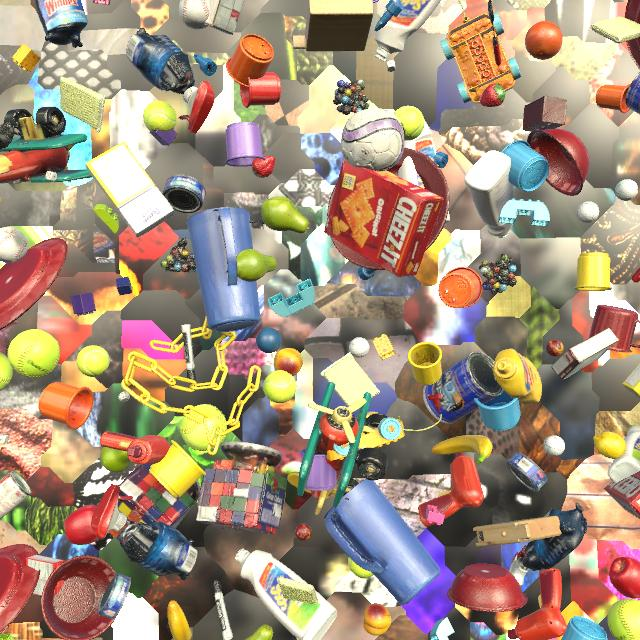ycb_002_master_chef_can: (423, 351, 504, 424), (625, 72, 640, 114)
ycb_003_cracker_box: (324, 159, 444, 277), (604, 471, 640, 519)
ycb_004_sugar_box: (85, 142, 174, 237), (622, 363, 640, 400)
ycb_005_tomato_soup_can: (0, 471, 32, 519)
ycb_006_mustard_bottle: (493, 349, 542, 405)
ycb_007_tuna_fish_can: (506, 451, 548, 492), (163, 174, 206, 213), (97, 573, 131, 619)
ycb_008_pudding_box: (551, 328, 619, 379), (204, 0, 244, 35)
ycb_009_gelatin_box: (26, 555, 64, 596)
ycb_011_banana: (432, 435, 492, 464), (167, 600, 192, 640)
ycb_012_strawberry: (480, 84, 505, 107), (252, 156, 275, 178), (271, 477, 278, 493)
ycb_013_apple: (64, 504, 99, 545), (609, 556, 640, 598)
ycb_014_lemon: (593, 432, 626, 459)
ycb_015_peach: (363, 603, 391, 636), (274, 348, 303, 376)
ycb_016_pear: (261, 196, 309, 233), (236, 249, 277, 282), (100, 447, 131, 473), (244, 624, 273, 640)
ycb_017_orange: (525, 21, 563, 60)
